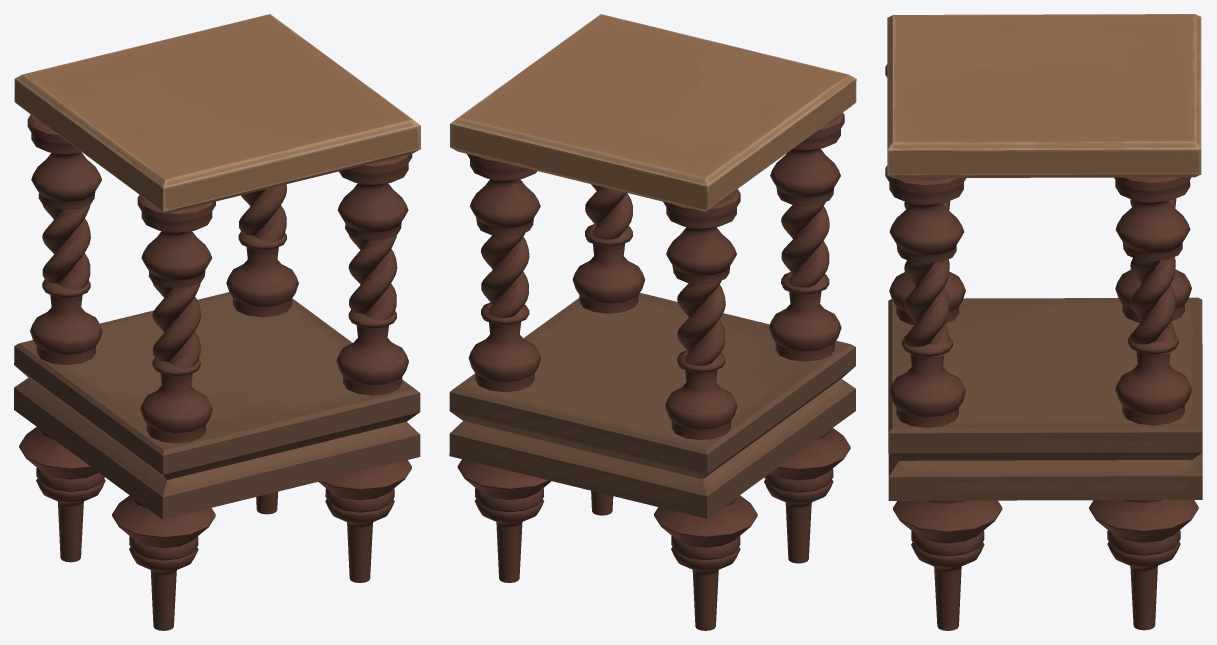
Rendered from TwoTierSquareFootAbsolute.fbx.
3 renders of one model, left to right at view 1: azimuth 30°, elevation 25°; view 2: azimuth 150°, elevation 25°; view 3: azimuth 270°, elevation 25°, orthographic. The views are drawn at different scales.
Visible parts, largest first — view 1: BaseSquareCornerFoot, MiddleSquareCornerFoot, footStick (4).001, footStick (4), footStick (6), middleStickPart3.001, middleStickPart3, middleStickPart1 (4), middleStickPart1 (5), middleStickPart1 (6), middleStickPart1 (7), middleStickPart3.003 (+4 smaller); view 2: BaseSquareCornerFoot, MiddleSquareCornerFoot, footStick (6), footStick (5), footStick (4).001, middleStickPart3.003, middleStickPart1 (5), middleStickPart1 (7), middleStickPart1 (6), middleStickPart1 (4), middleStickPart3.002, middleStickPart3.001 (+4 smaller); view 3: MiddleSquareCornerFoot, BaseSquareCornerFoot, footStick (4), footStick (5), middleStickPart3, middleStickPart3.002, middleStickPart1 (6), middleStickPart1 (4), middleStickPart2.002, middleStickPart2, middleStickPart1 (5), middleStickPart1 (7).
Part boxes in pixels (x1=…): BaseSquareCornerFoot: x1=14, y1=292, x2=420, y2=519; MiddleSquareCornerFoot: x1=14, y1=14, x2=420, y2=213; footStick (4).001: x1=112, y1=495, x2=215, y2=630; footStick (4): x1=318, y1=460, x2=411, y2=582; footStick (6): x1=19, y1=427, x2=105, y2=562; middleStickPart3.001: x1=137, y1=195, x2=215, y2=288; middleStickPart3: x1=337, y1=153, x2=412, y2=240; middleStickPart1 (4): x1=336, y1=310, x2=408, y2=395; middleStickPart1 (5): x1=140, y1=358, x2=212, y2=443; middleStickPart1 (6): x1=226, y1=231, x2=298, y2=317; middleStickPart1 (7): x1=30, y1=279, x2=102, y2=365; middleStickPart3.003: x1=27, y1=114, x2=101, y2=209; BaseSquareCornerFoot: x1=449, y1=293, x2=855, y2=518; MiddleSquareCornerFoot: x1=450, y1=14, x2=856, y2=211; footStick (6): x1=654, y1=495, x2=757, y2=630; footStick (5): x1=457, y1=459, x2=551, y2=582; footStick (4).001: x1=764, y1=428, x2=850, y2=563; middleStickPart3.003: x1=663, y1=189, x2=740, y2=284; middleStickPart1 (5): x1=769, y1=272, x2=841, y2=361; middleStickPart1 (7): x1=665, y1=350, x2=737, y2=439; middleStickPart1 (6): x1=468, y1=302, x2=541, y2=392; middleStickPart1 (4): x1=572, y1=224, x2=644, y2=313; middleStickPart3.002: x1=467, y1=154, x2=540, y2=236; middleStickPart3.001: x1=770, y1=113, x2=844, y2=205; MiddleSquareCornerFoot: x1=887, y1=14, x2=1201, y2=178; BaseSquareCornerFoot: x1=888, y1=297, x2=1202, y2=500; footStick (4): x1=893, y1=500, x2=1002, y2=630; footStick (5): x1=1089, y1=500, x2=1198, y2=630; middleStickPart3: x1=885, y1=165, x2=966, y2=263; middleStickPart3.002: x1=1114, y1=177, x2=1191, y2=261; middleStickPart1 (6): x1=1115, y1=333, x2=1191, y2=425; middleStickPart1 (4): x1=889, y1=335, x2=965, y2=427; middleStickPart2.002: x1=1130, y1=257, x2=1176, y2=354; middleStickPart2: x1=904, y1=259, x2=950, y2=356; middleStickPart1 (5): x1=889, y1=271, x2=965, y2=325; middleStickPart1 (7): x1=1115, y1=269, x2=1191, y2=322.
Size of the model in its own units: 444 by 701 by 404.
